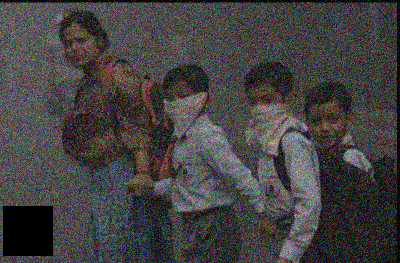with_mask: (162, 87, 197, 122), (248, 90, 282, 125)
without_mask: (306, 109, 347, 148), (63, 32, 97, 68)
